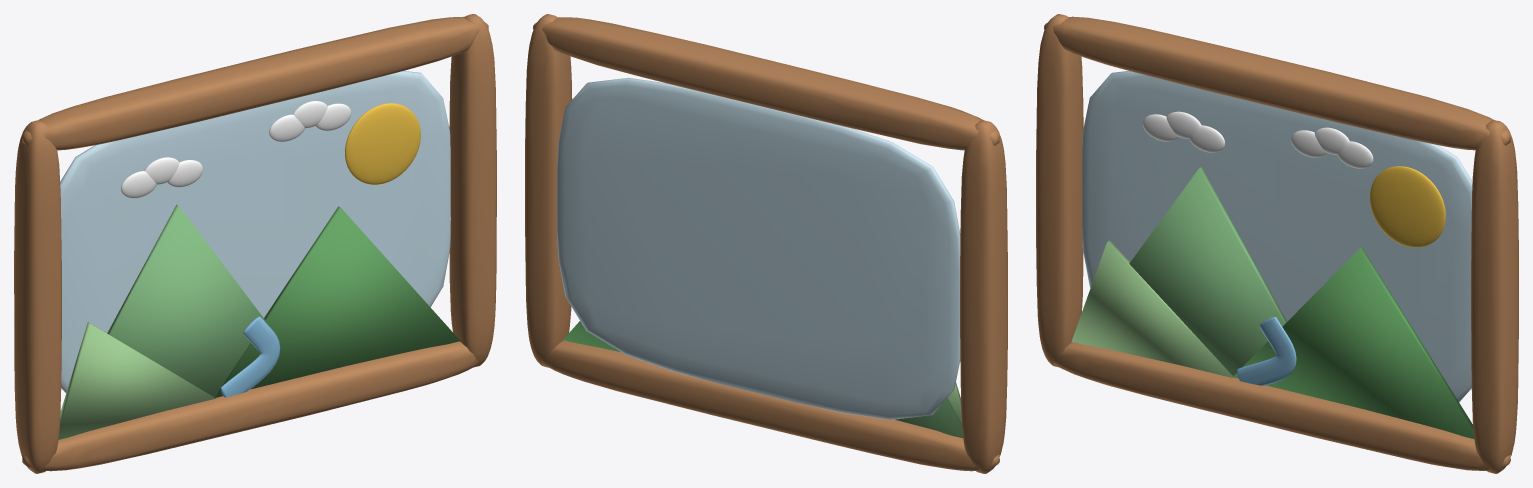
File: deco_cuadro_paisaje.glb
3 views of the same model, side by side, from view 1: azimuth 30°, elevation 25°; view 2: azimuth 150°, elevation 25°; view 3: azimuth 330°, elevation 25° (orthographic).
Parts seen in each view (by area): view 1: lienzo.001, marco horizontal.003, cerro 1, marco horizontal.002, cerro 0, marco vertical.002, marco vertical.003, cerro 2, sol, río, nube 00, nube 10 (+4 smaller); view 2: lienzo.001, marco horizontal.003, marco vertical.002, marco horizontal.002, marco vertical.003, cerro 0, cerro 1; view 3: lienzo.001, marco horizontal.003, cerro 1, marco horizontal.002, cerro 0, marco vertical.003, marco vertical.002, cerro 2, sol, río, nube 12, nube 02 (+4 smaller).
Part boxes in pixels (box(x1,y1,x2,y2)): lienzo.001: box(60, 71, 450, 393); marco horizontal.003: box(22, 16, 488, 150); cerro 1: box(214, 206, 460, 397); marco horizontal.002: box(22, 341, 479, 471); cerro 0: box(107, 204, 265, 396); marco vertical.002: box(14, 120, 61, 473); marco vertical.003: box(449, 14, 496, 367); cerro 2: box(58, 322, 215, 439); sol: box(345, 103, 420, 184); río: box(220, 316, 280, 397); nube 00: box(121, 171, 156, 198); nube 10: box(269, 114, 305, 141); lienzo.001: box(557, 77, 960, 419); marco horizontal.003: box(533, 17, 999, 150); marco vertical.002: box(960, 120, 1007, 473); marco horizontal.002: box(542, 340, 999, 471); marco vertical.003: box(525, 14, 572, 367); cerro 0: box(895, 398, 963, 438); cerro 1: box(563, 321, 620, 351); lienzo.001: box(1082, 71, 1472, 402); marco horizontal.003: box(1044, 16, 1510, 150); cerro 1: box(1233, 247, 1474, 438); marco horizontal.002: box(1054, 342, 1510, 470); cerro 0: box(1129, 167, 1286, 375); marco vertical.003: box(1471, 120, 1518, 473); marco vertical.002: box(1036, 14, 1083, 367); cerro 2: box(1071, 240, 1233, 377); sol: box(1370, 166, 1445, 247); río: box(1237, 317, 1296, 385); nube 12: box(1337, 141, 1373, 168); nube 02: box(1189, 125, 1224, 152).
Bounding box in the file's own units: 0.7296 × 0.5294 × 0.0599.
